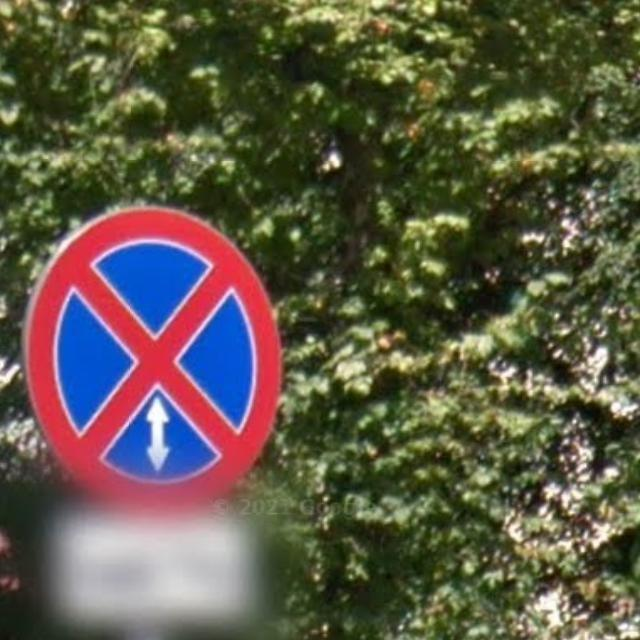forb_waiting: (21, 207, 283, 498)
